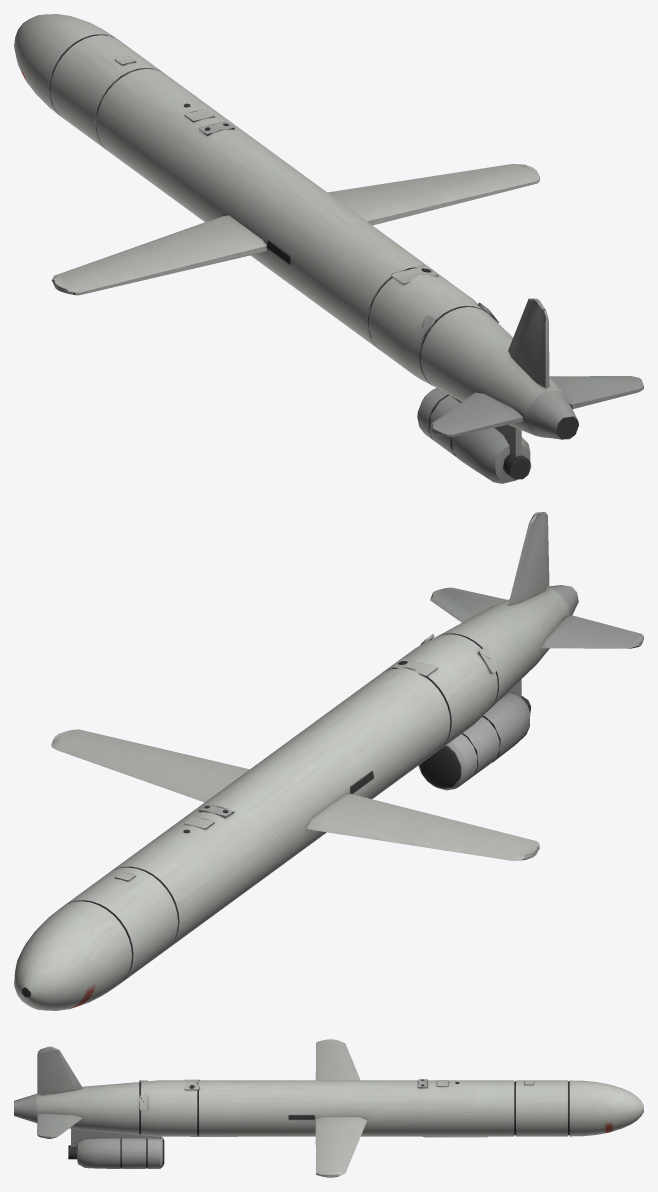
The picture shows the model from 3 angles, top to bottom: view 1: azimuth 30°, elevation 25°; view 2: azimuth 150°, elevation 25°; view 3: azimuth 270°, elevation 25°; orthographic projection. The views are drawn at different scales.
Parts seen in each view (by area): view 1: Object_4; view 2: Object_4; view 3: Object_4.
Boxes of the visible parts, box(x1,y1,x2,y2) form: Object_4: box(14, 14, 643, 483); Object_4: box(14, 512, 643, 1010); Object_4: box(14, 1039, 643, 1177).
Size of the model in its own units: 3.08 by 1.27 by 6.04.
Materials: 1 (1 with a texture image).
